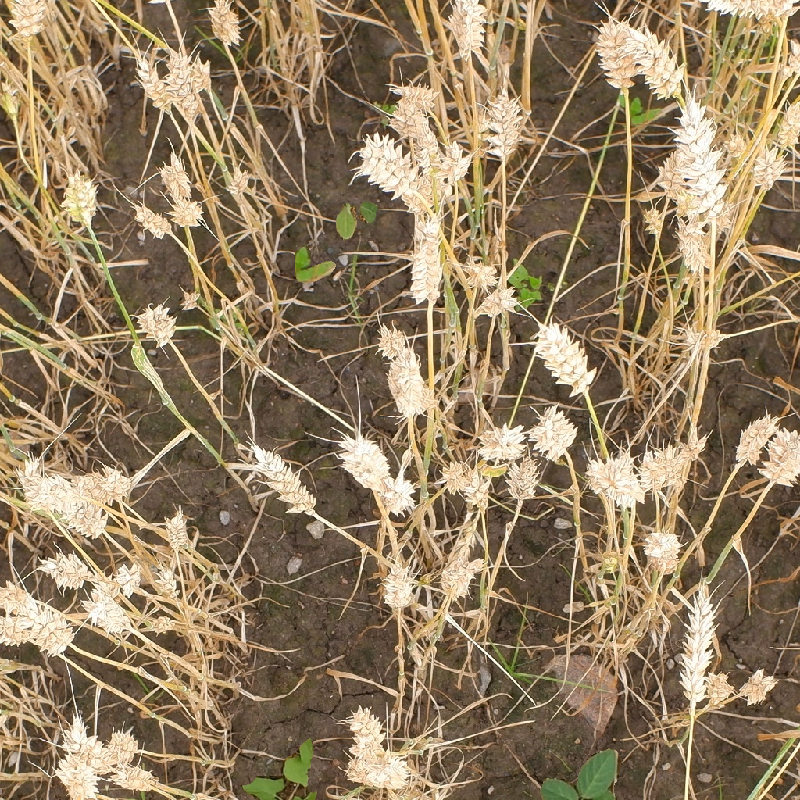spikelet: (13, 455, 107, 538), (670, 95, 729, 224), (336, 429, 415, 516), (615, 17, 689, 98), (244, 438, 319, 516), (673, 582, 720, 705), (529, 313, 599, 395), (1, 579, 74, 655), (354, 128, 424, 204), (403, 211, 451, 304), (52, 717, 103, 800), (584, 447, 646, 511), (590, 16, 640, 92), (385, 344, 433, 420), (481, 85, 527, 160), (639, 436, 695, 494), (730, 407, 780, 468), (529, 403, 580, 461), (442, 1, 493, 59), (164, 47, 212, 105), (131, 53, 175, 115), (83, 581, 133, 635), (59, 167, 102, 228), (672, 213, 713, 276), (77, 461, 135, 505), (761, 423, 799, 489), (638, 521, 686, 572), (343, 701, 388, 755), (134, 298, 180, 349), (475, 417, 527, 462), (377, 557, 419, 612), (37, 547, 92, 589), (389, 76, 442, 118), (435, 554, 478, 604), (55, 753, 100, 800), (364, 749, 413, 792), (474, 279, 523, 322), (203, 1, 246, 49), (695, 1, 793, 22), (678, 319, 726, 360), (157, 151, 196, 201), (748, 142, 786, 192), (736, 663, 778, 708), (3, 1, 54, 38), (102, 724, 144, 766), (130, 200, 173, 240), (504, 457, 541, 503), (112, 760, 158, 796), (372, 319, 411, 361), (436, 455, 474, 498), (460, 254, 501, 293), (772, 94, 800, 150), (162, 508, 195, 553), (461, 468, 494, 513), (168, 193, 207, 231), (701, 667, 735, 710), (111, 558, 146, 597)
weed: (240, 737, 317, 800), (540, 748, 621, 800), (505, 256, 544, 308), (620, 90, 661, 132), (336, 201, 378, 241), (295, 245, 336, 283)
